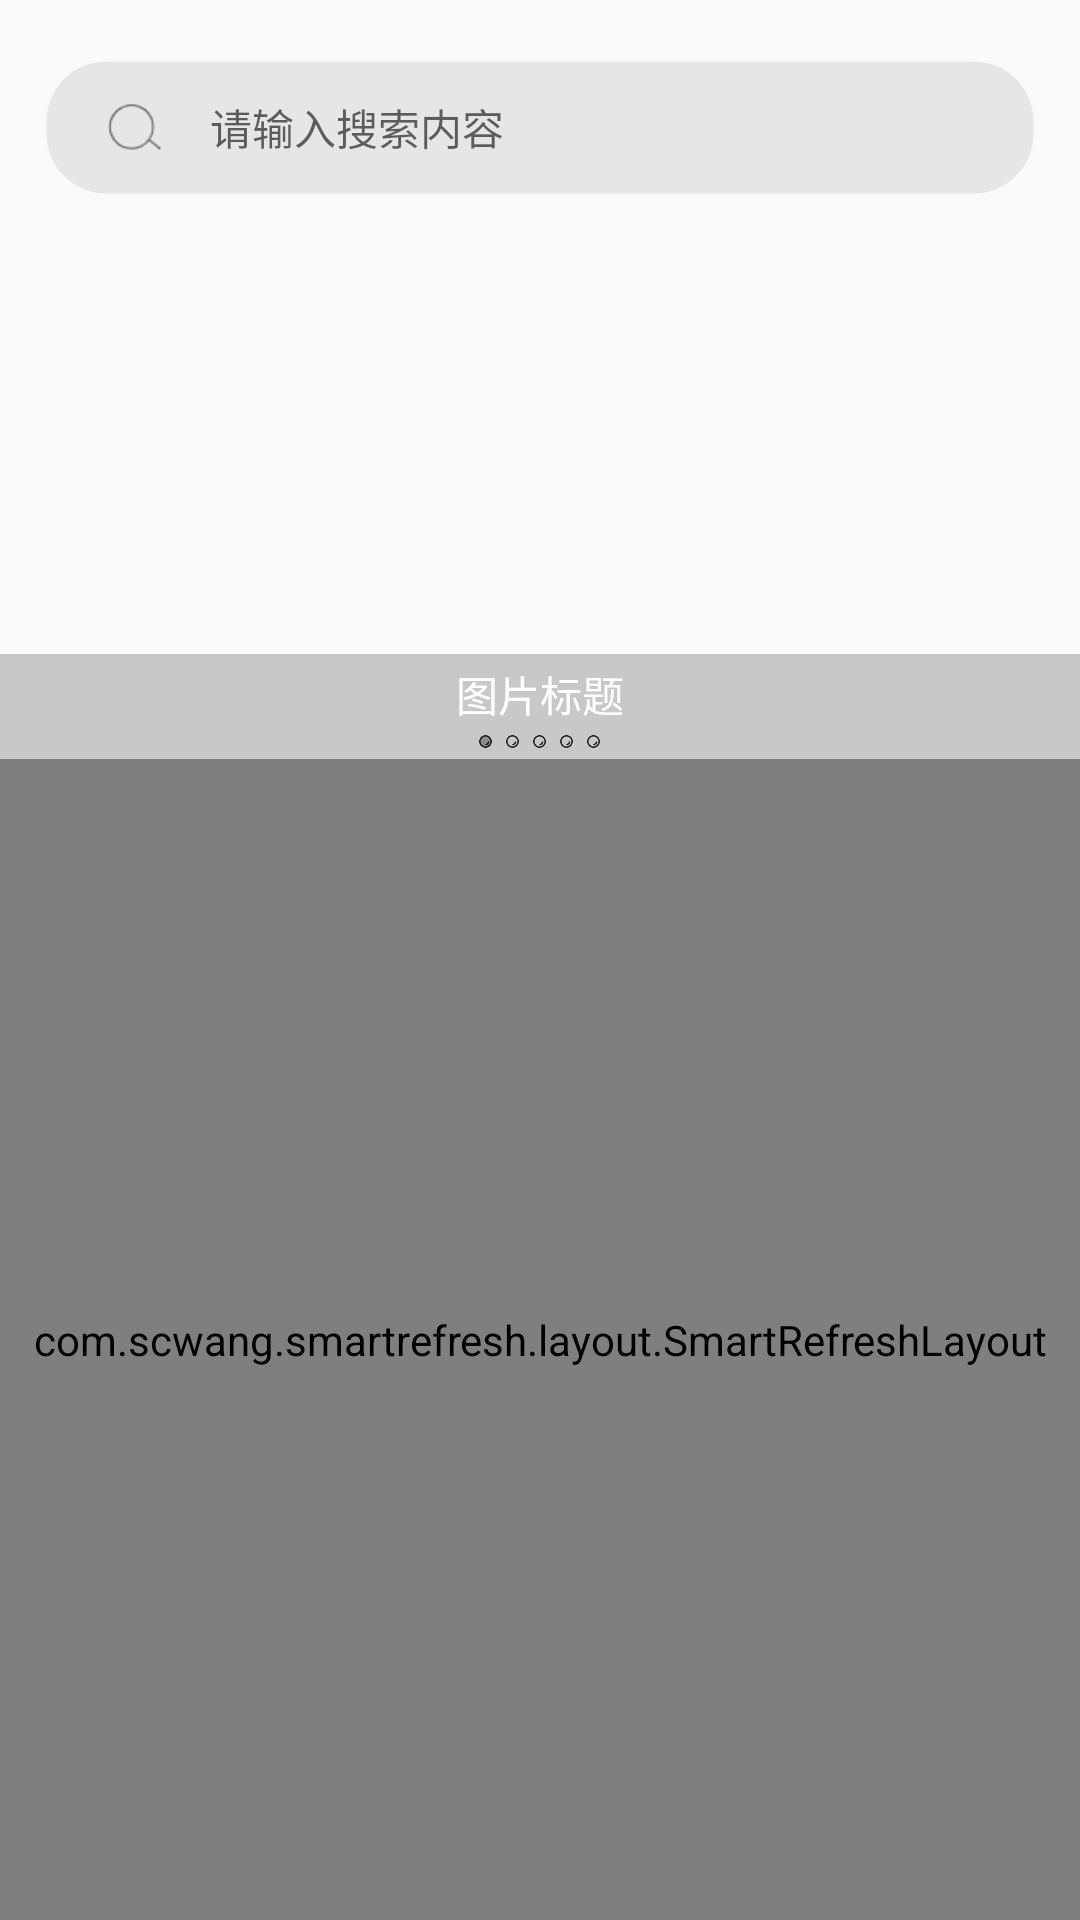

Icon click points for this 1080×1920 phone screenshot, format (x=x, y=y):
search: (x=134, y=127)
